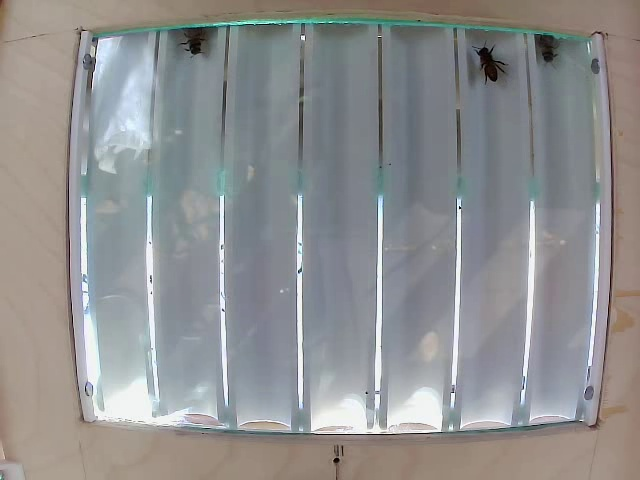bee: (479, 43, 504, 95), (182, 27, 217, 60)
